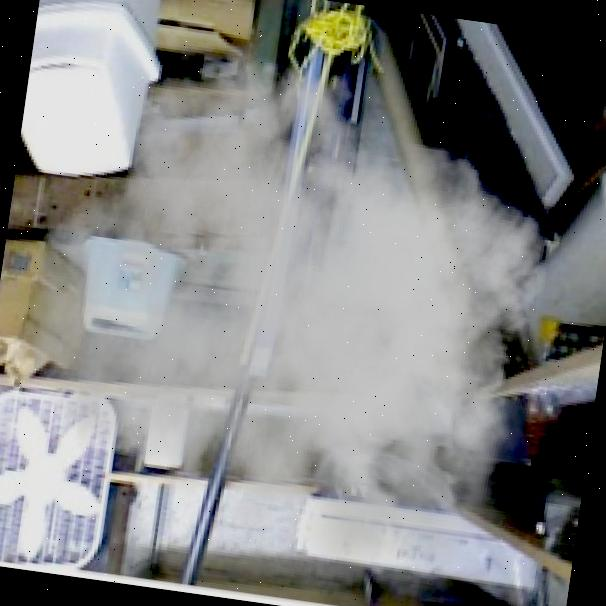smoke: (0, 15, 590, 606)
